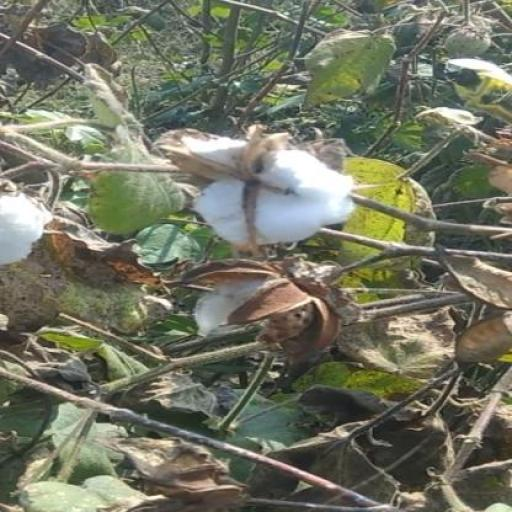cotton_ready: (184, 138, 359, 256)
